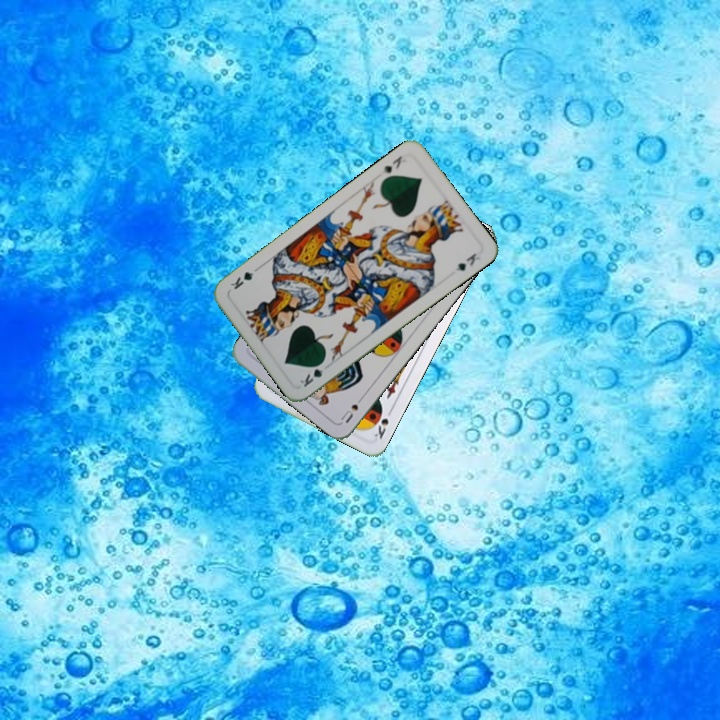GK: (296, 357, 332, 390), (378, 151, 409, 176)
SK: (370, 404, 395, 442)
SU: (336, 391, 367, 426)
